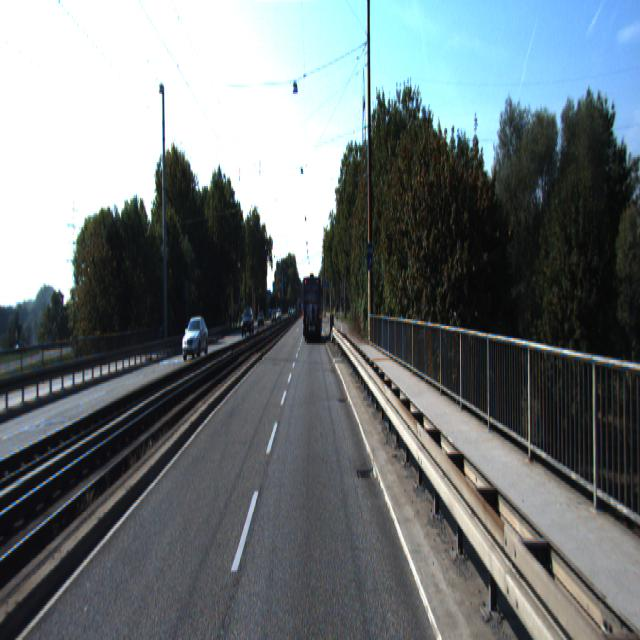Car: (303, 274, 324, 342), (180, 317, 210, 363), (240, 308, 254, 339)
